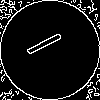I: (25, 25, 72, 58)
